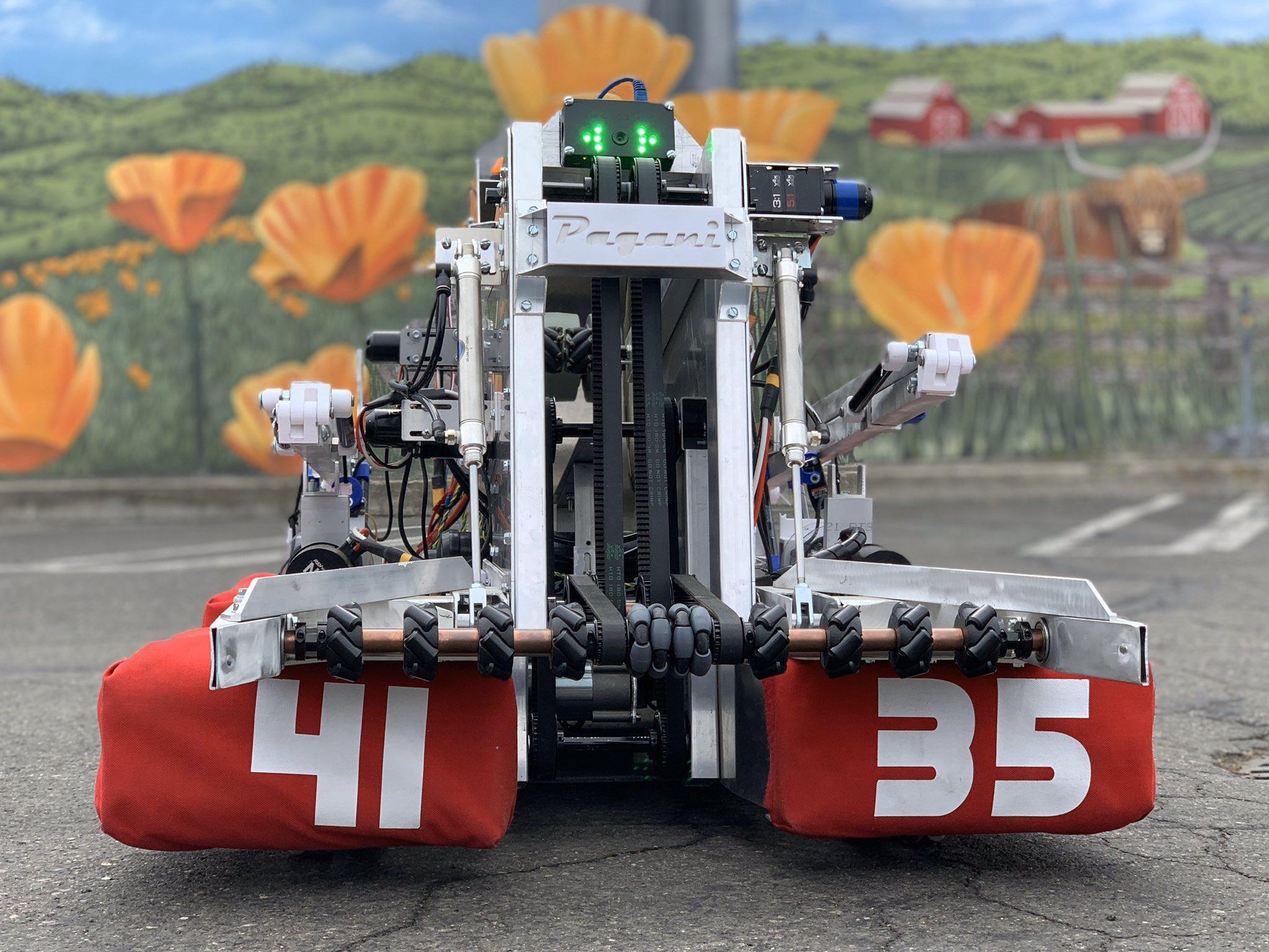robot: (76, 64, 1165, 882)
